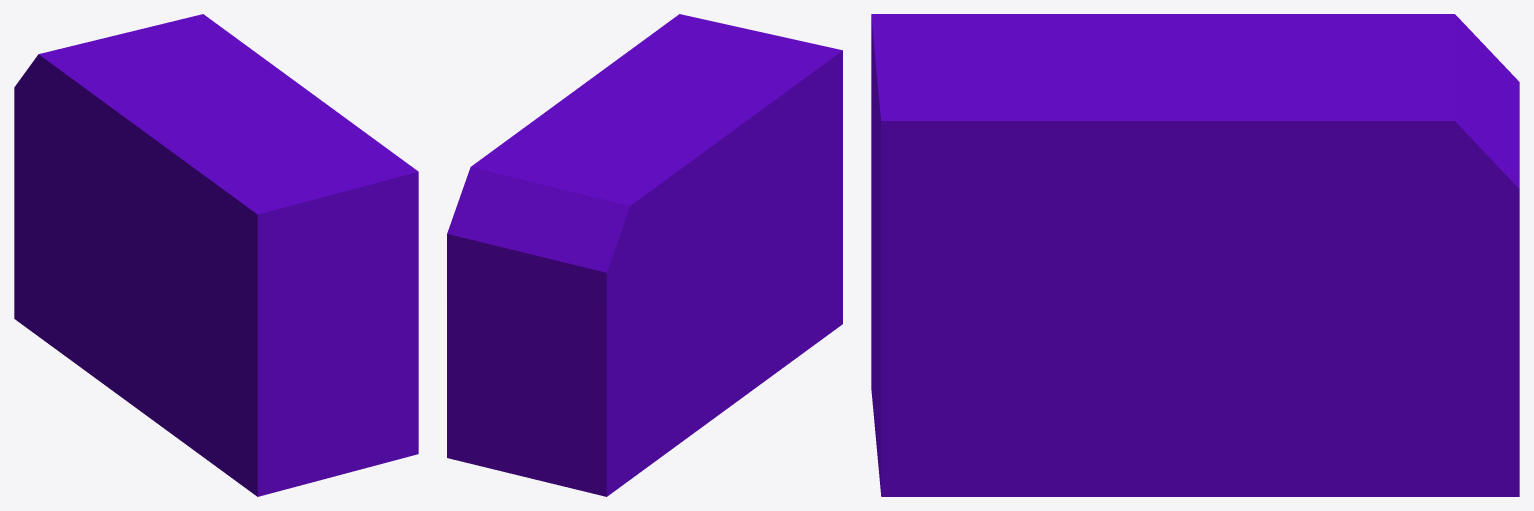
The model's file is simple_example_hole_part_42.obj.
3 renders of one model, left to right at view 1: azimuth 30°, elevation 25°; view 2: azimuth 150°, elevation 25°; view 3: azimuth 270°, elevation 25°, orthographic. The views are drawn at different scales.
Bounding box in the file's own units: 7.46 × 12.21 × 19.09.
